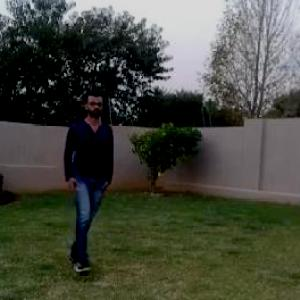follow: (65, 90, 110, 245)
